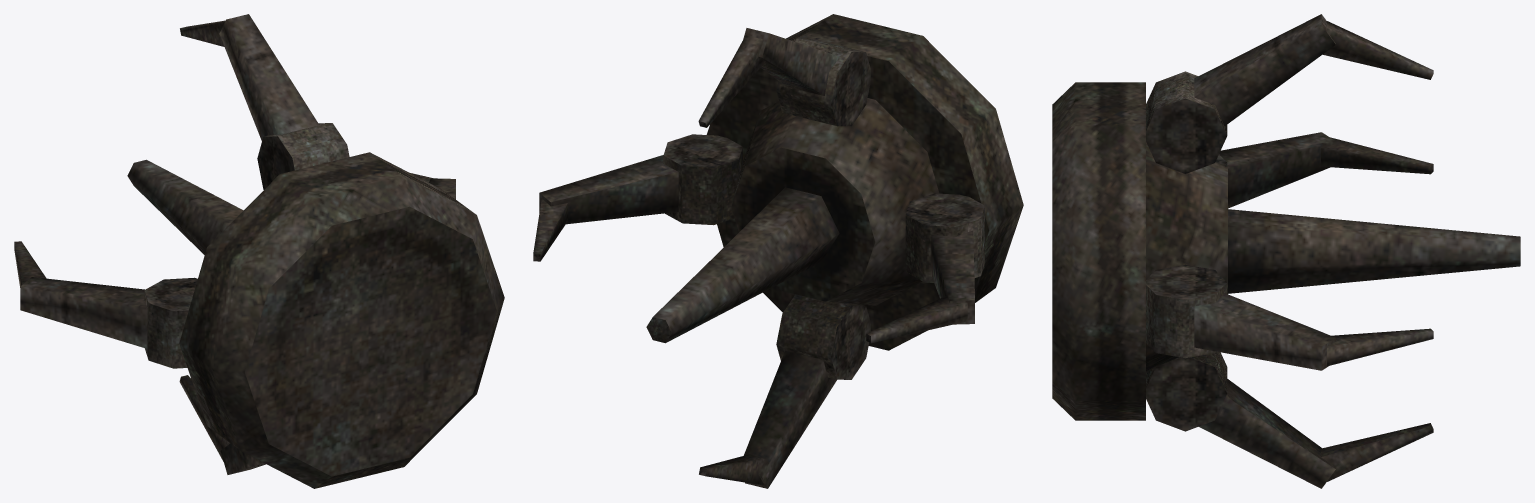
The model's file is leech_cable_end.dae.
The picture shows the model from 3 angles, left to right: view 1: azimuth 30°, elevation 25°; view 2: azimuth 150°, elevation 25°; view 3: azimuth 270°, elevation 25°; orthographic projection.
Visible parts, largest first — view 1: tentacle_leech_cable_end; view 2: tentacle_leech_cable_end; view 3: tentacle_leech_cable_end.
Boxes of the visible parts, left/top/right/bottom form: tentacle_leech_cable_end: left=14, top=14, right=504, bottom=488; tentacle_leech_cable_end: left=533, top=14, right=1023, bottom=488; tentacle_leech_cable_end: left=1052, top=14, right=1520, bottom=488.
Size of the model in its own units: 0.4737 by 0.4737 by 0.4343.
